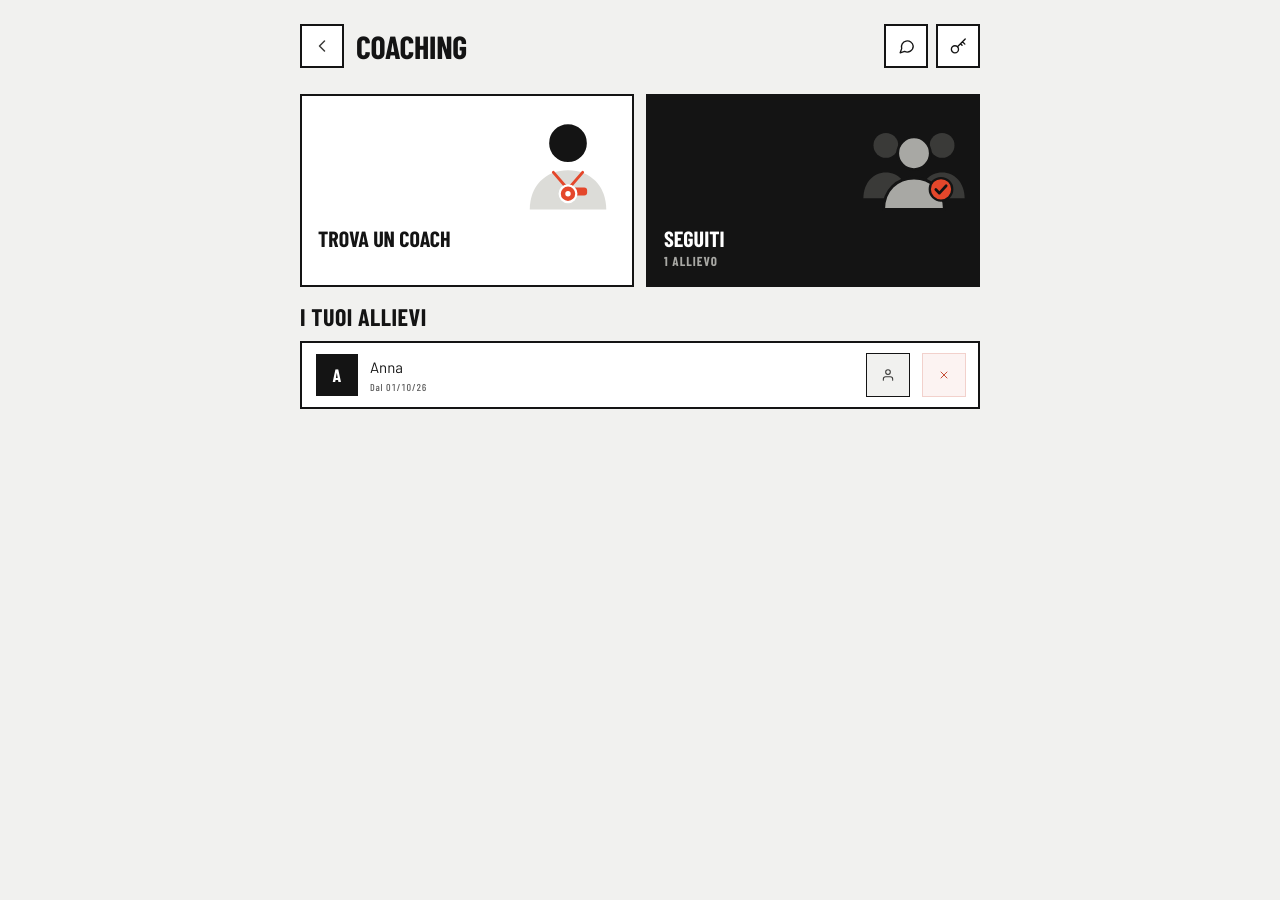
Test: il numero nella pagina dell’allievo › eliminare una scheda che l’allievo aveva già tolto la toglie e basta
Click the button "A Anna Dal 01/10/26": (372, 375) [316,354,427,396]
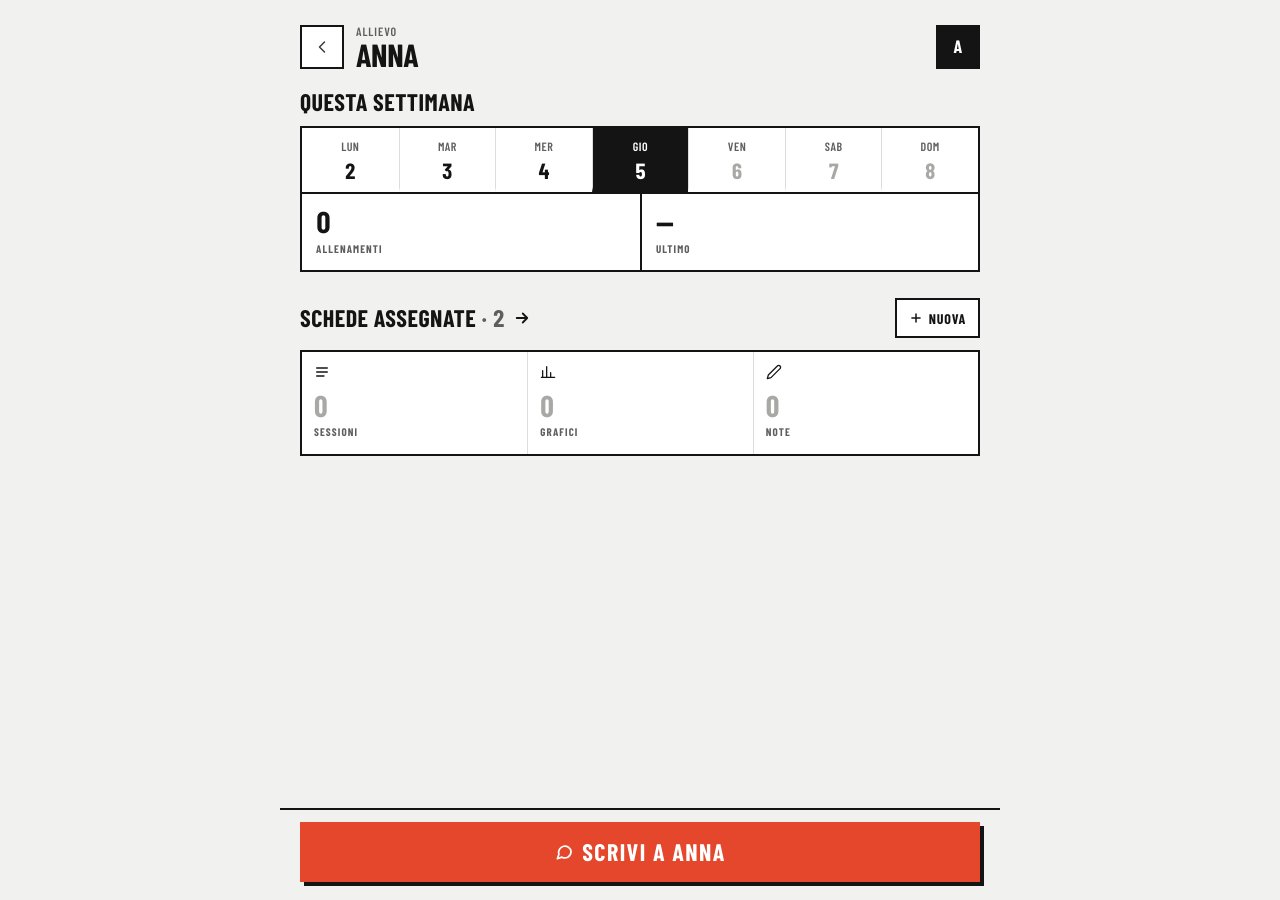
Click the button "Schede assegnate · 2": (416, 318) [300,298,531,338]
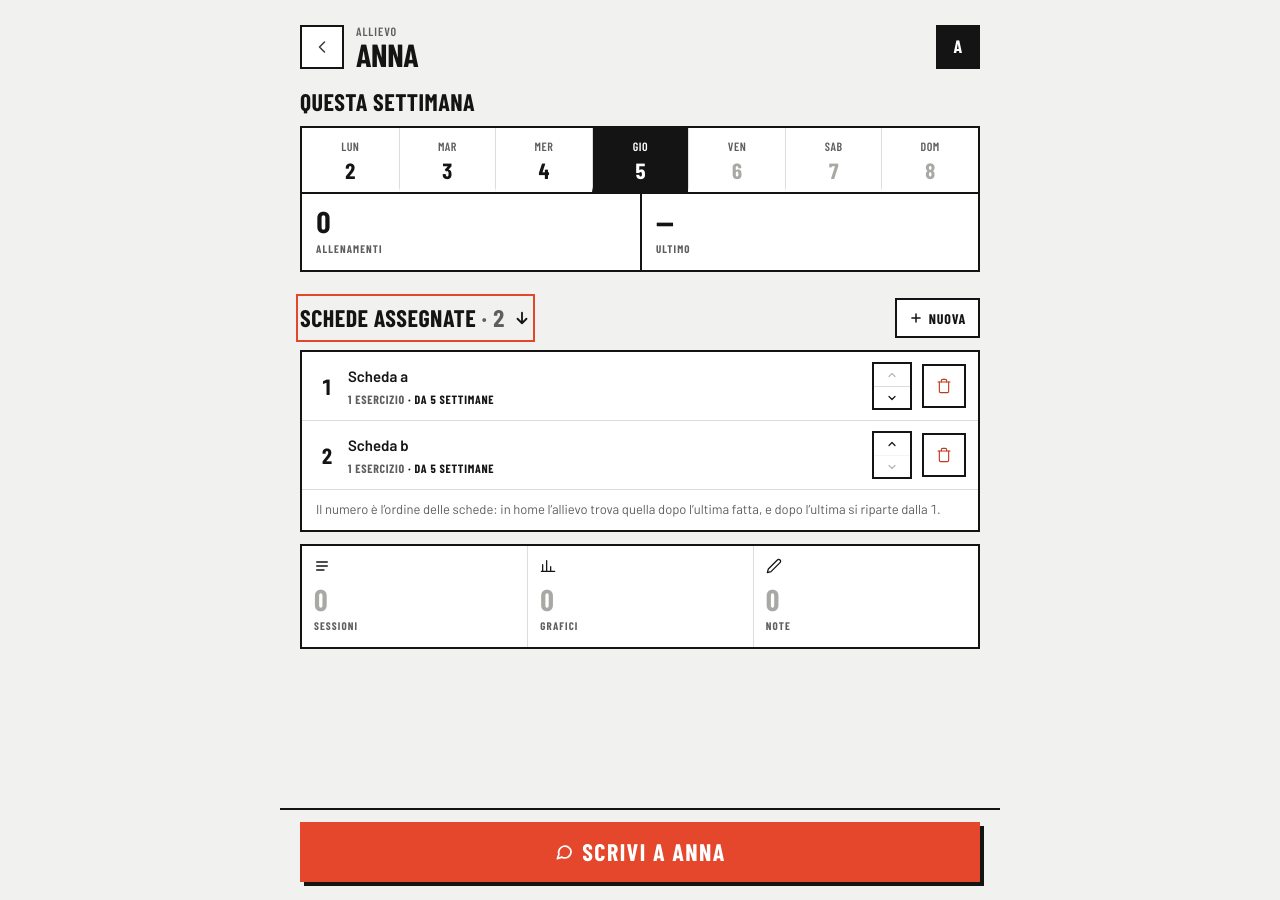
Click the button named "Elimina Scheda a": (944, 386) [922,364,966,408]
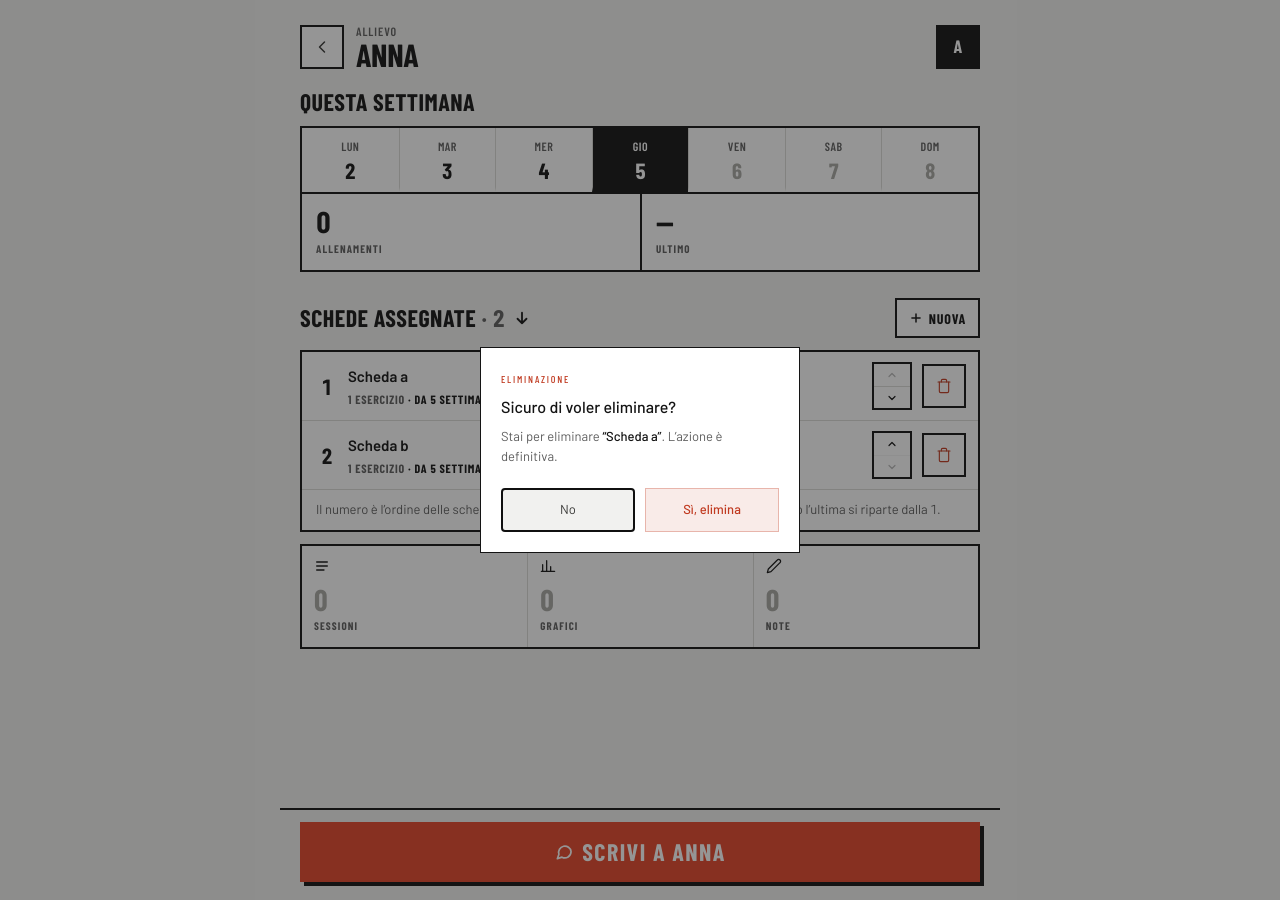
Click the button "Sì, elimina": (712, 510) [645,488,779,532]
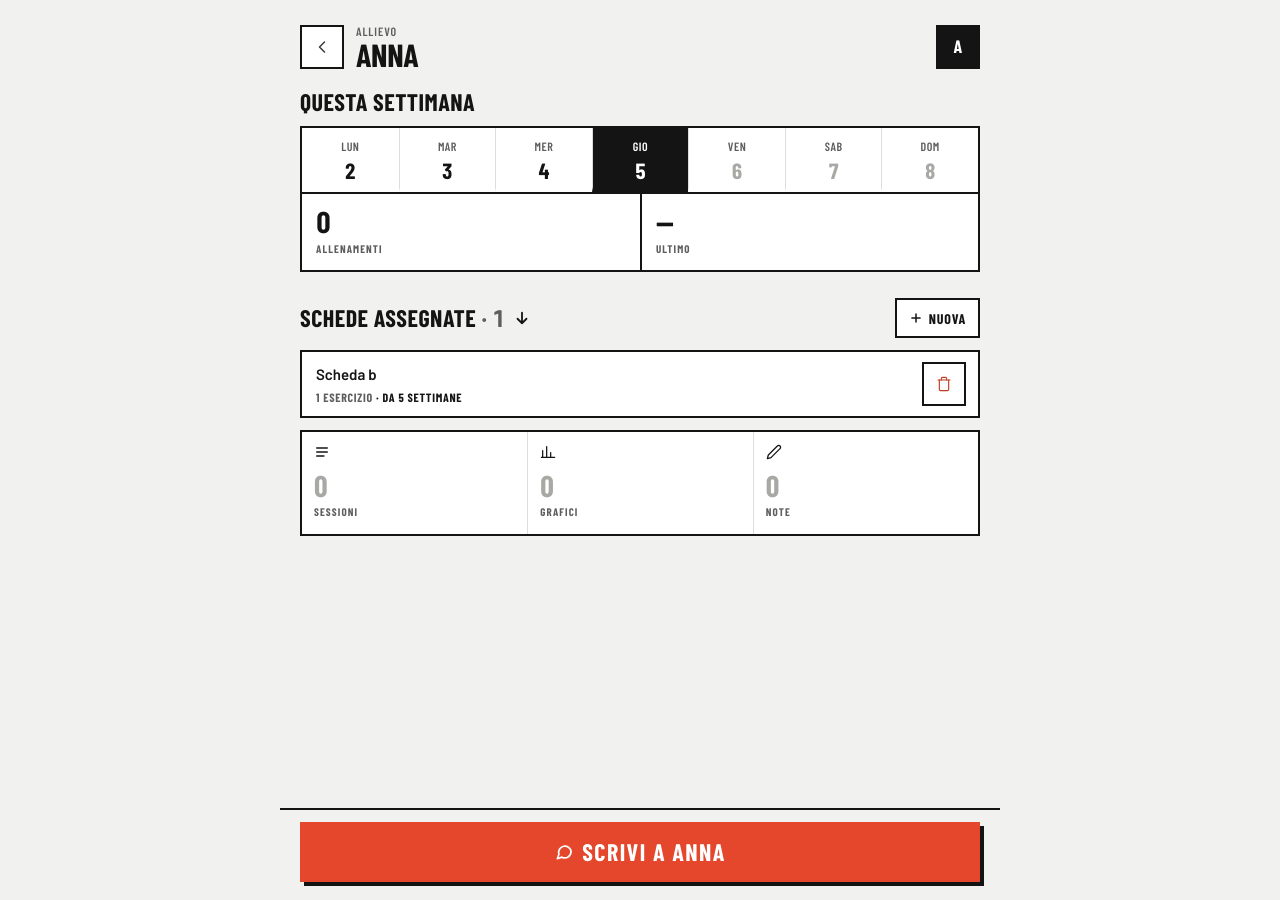
Result: the button "Scheda a" is gone
